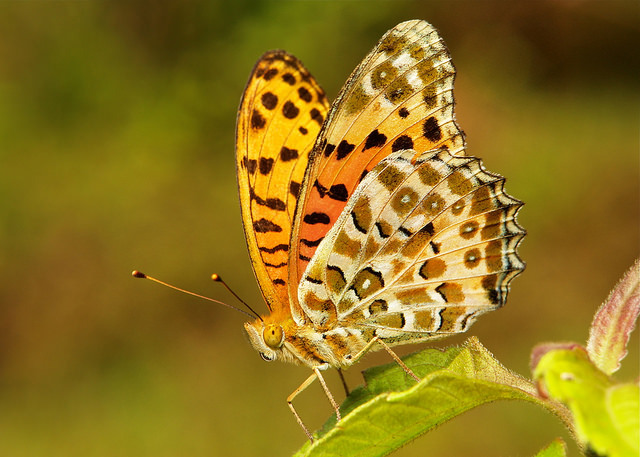Argyreus hyperbius: (124, 16, 531, 439)
butterfly: (126, 18, 533, 441)
